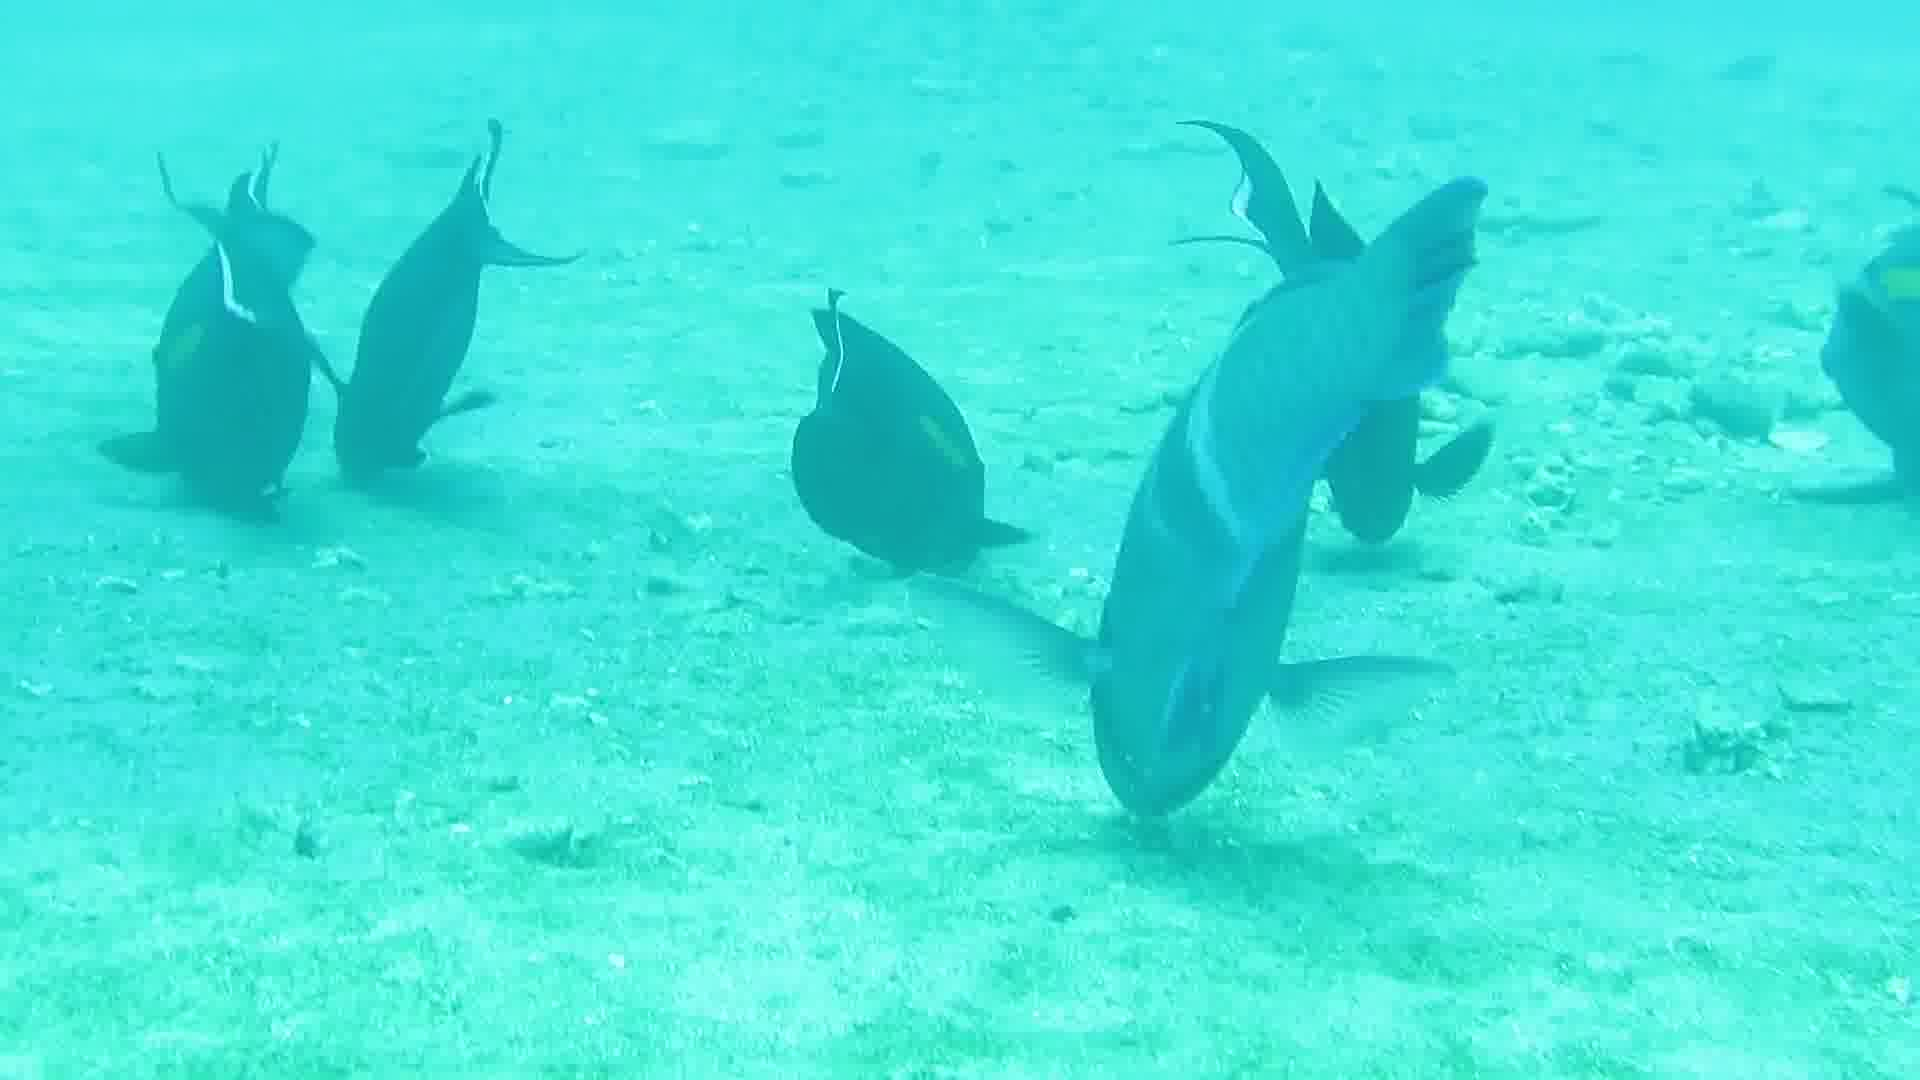Acanthurus olivaceus: (1072, 227, 1447, 837), (113, 90, 343, 589), (796, 178, 1026, 676), (334, 73, 562, 571)
